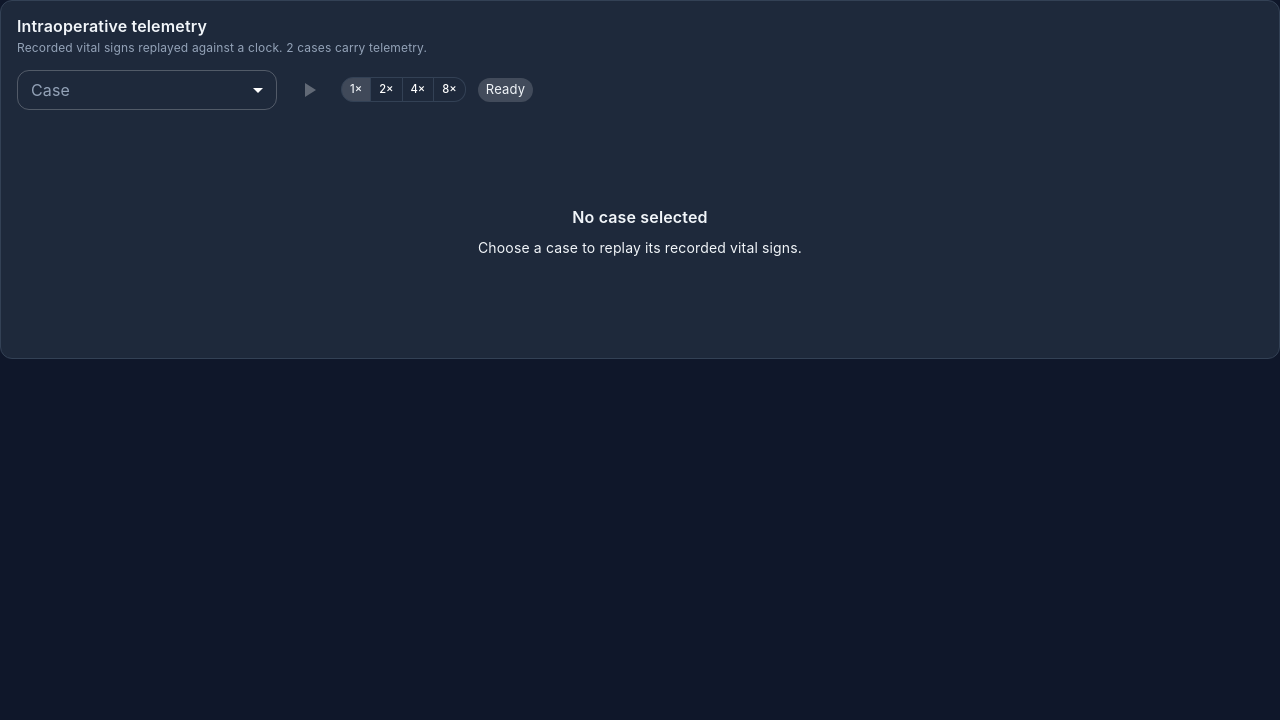
Test case: TelemetryPanel › shows a trace per available channel once a case is chosen
This screenshot has width=1280, height=720.
Expected: the text "2 cases carry telemetry" is shown, [17,40,427,55]
Step 1. Click the dropdown named "Case" → (147, 90), box [17,70,277,110]
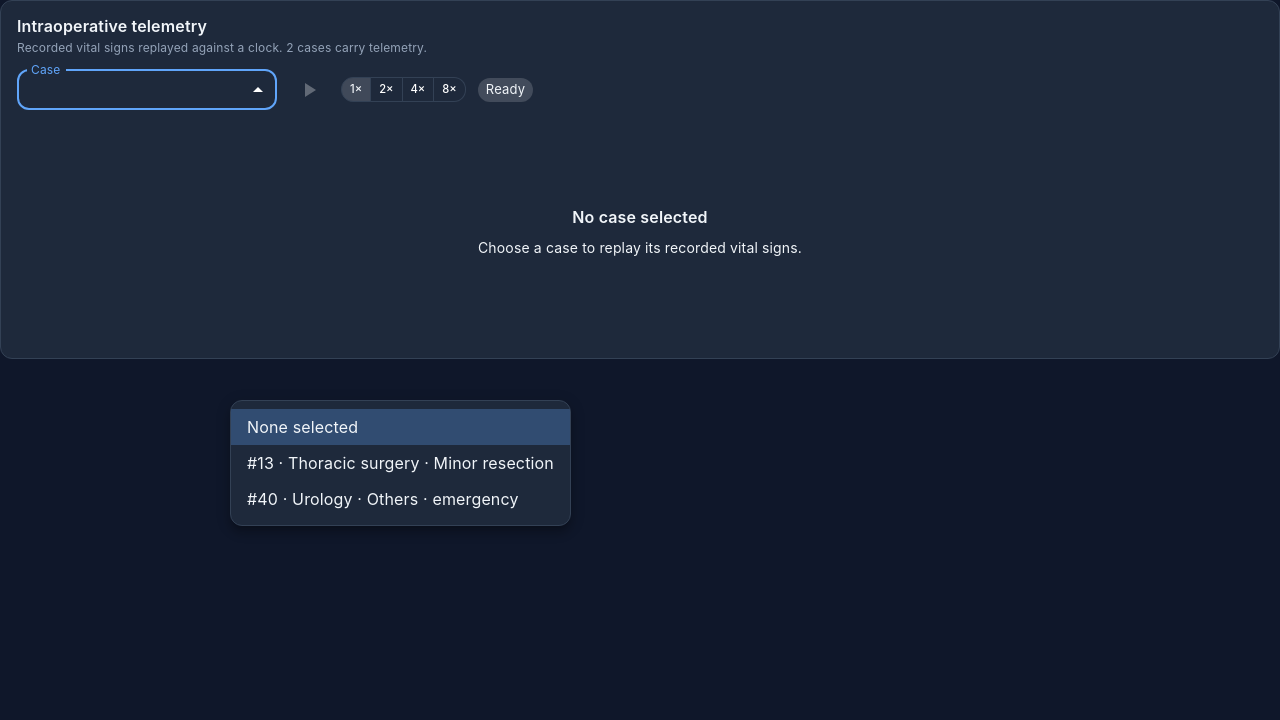
Step 2. Click the option "#13 · Thoracic surgery · Minor resection" → (400, 463), box [247,453,554,473]
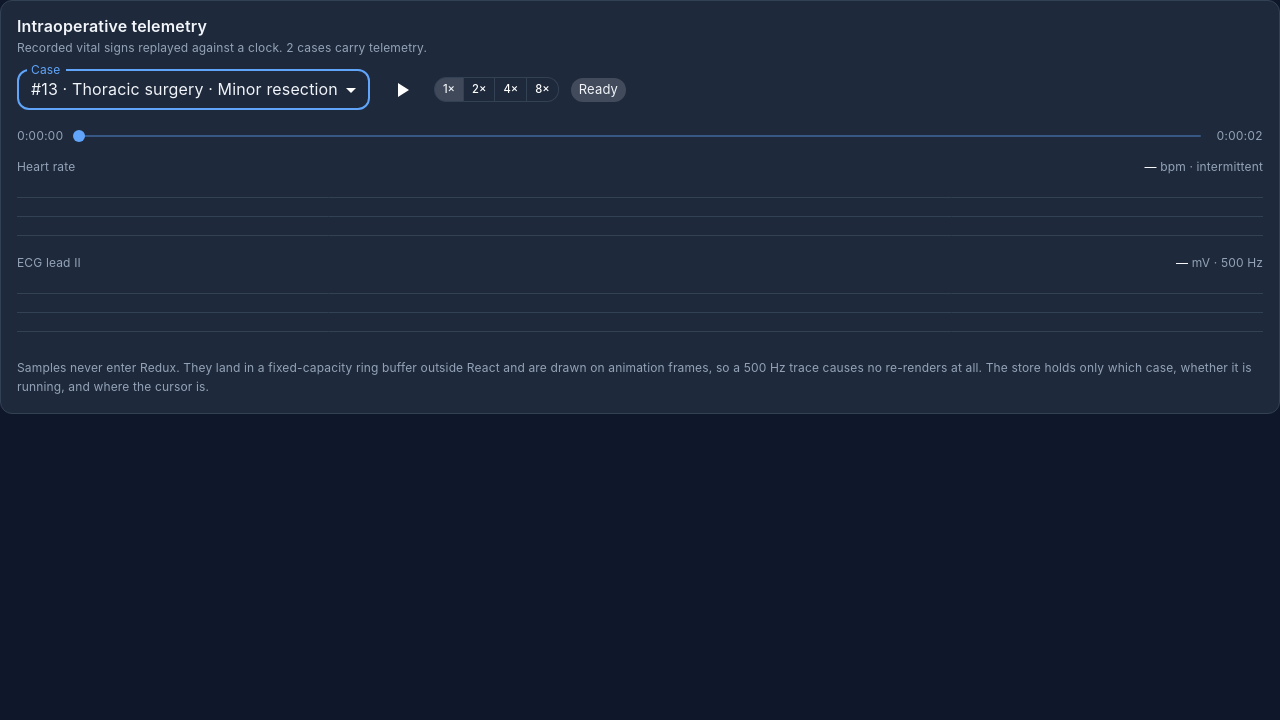
Expected: the picture named "Heart rate trace" is shown, [17,178,1263,254]
Expected: the picture named "ECG lead II trace" is shown, [17,274,1263,350]
